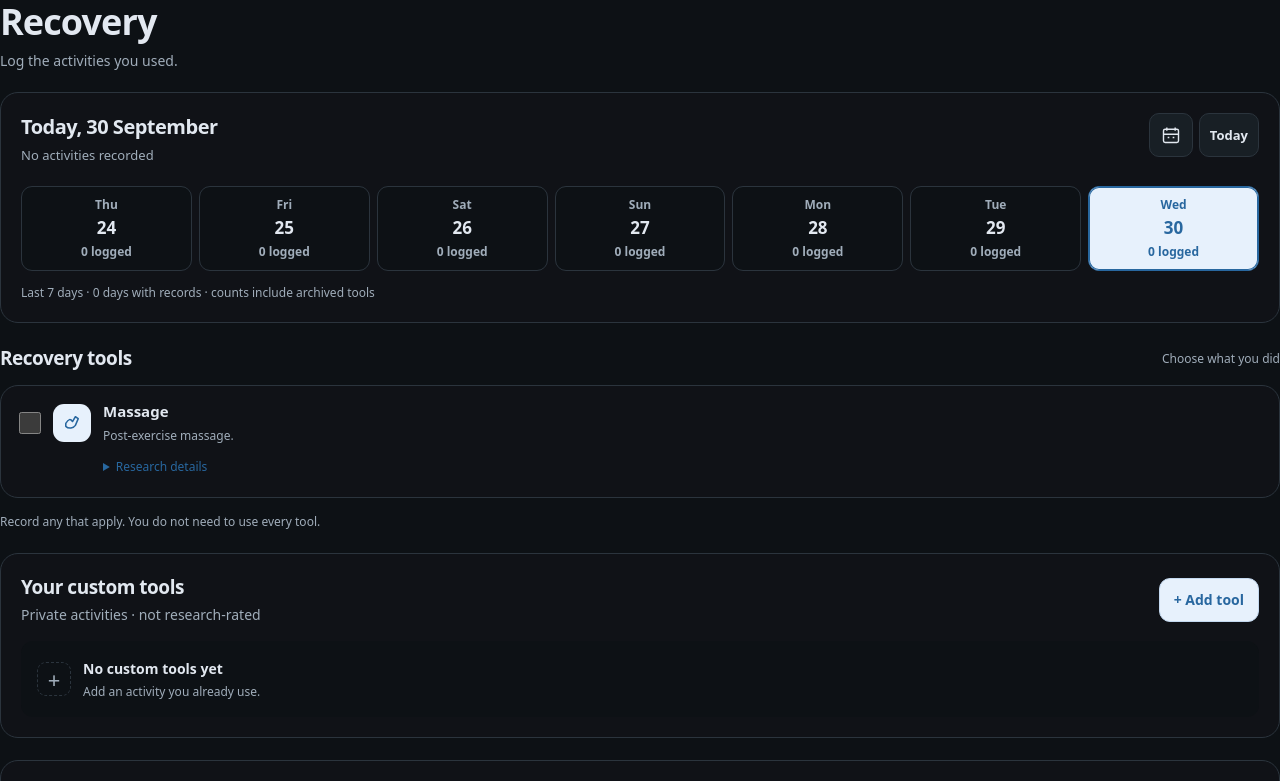
Test: Recovery › preserves the name when custom creation is refused
The width and height of the screenshot is (1280, 781).
Step 1. Click the button with aria-label "Add custom tool" → (1209, 600), box [1159, 578, 1259, 622]
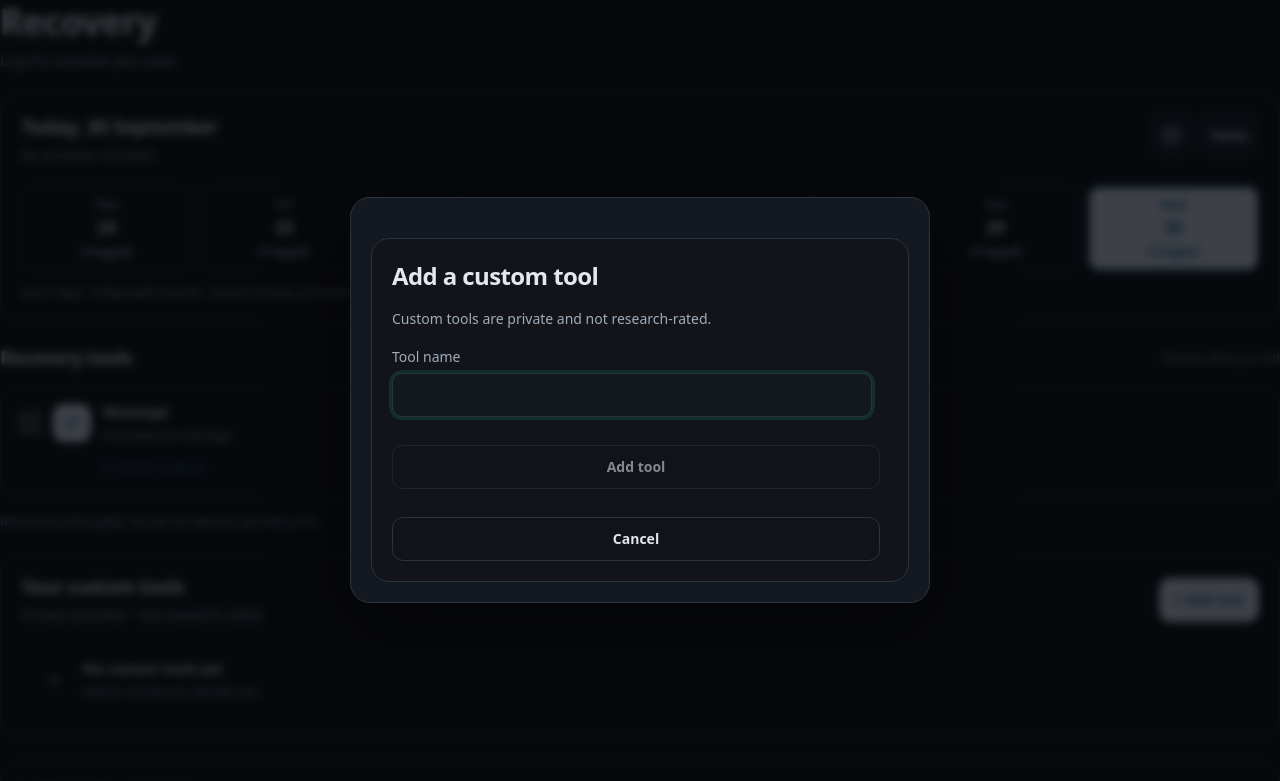
Step 2. Type "Sauna" into the field labelled "Tool name" → (632, 395), box [392, 373, 872, 417]
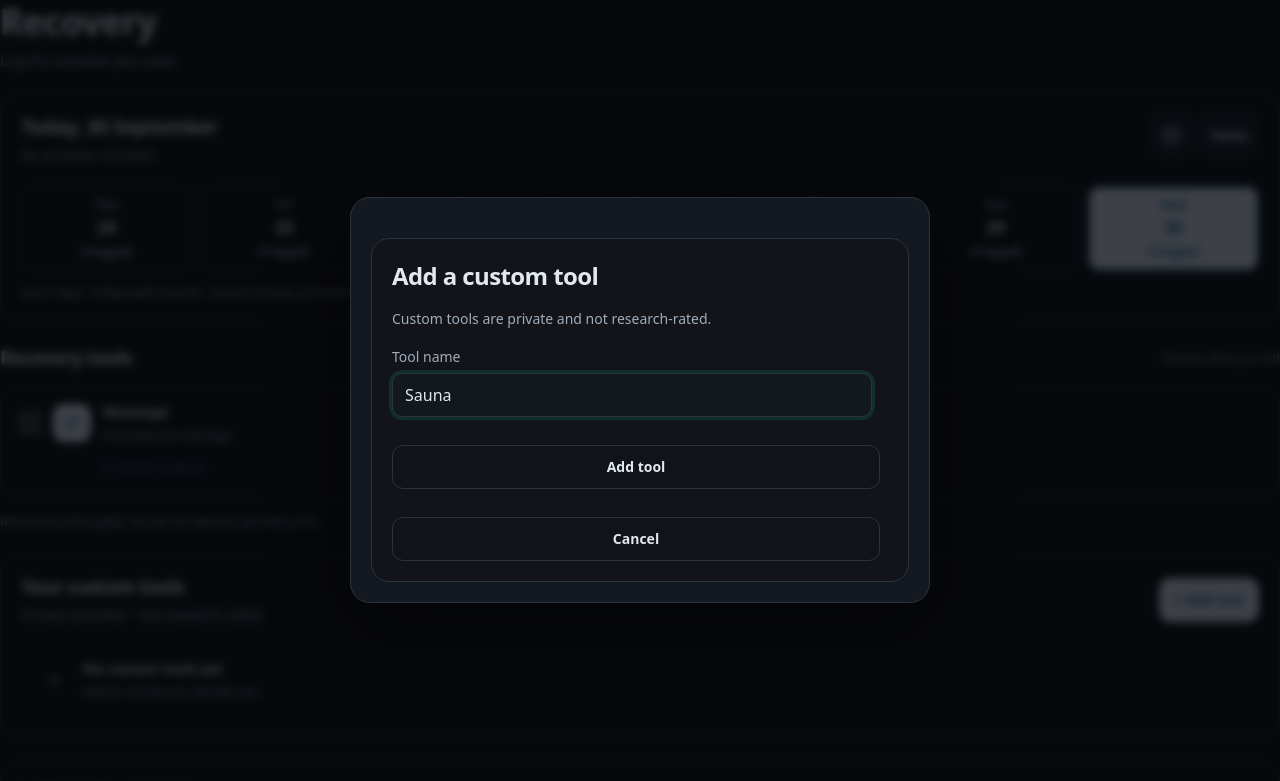
Step 3. Click the button "Add tool" → (636, 467), box [392, 445, 880, 489]
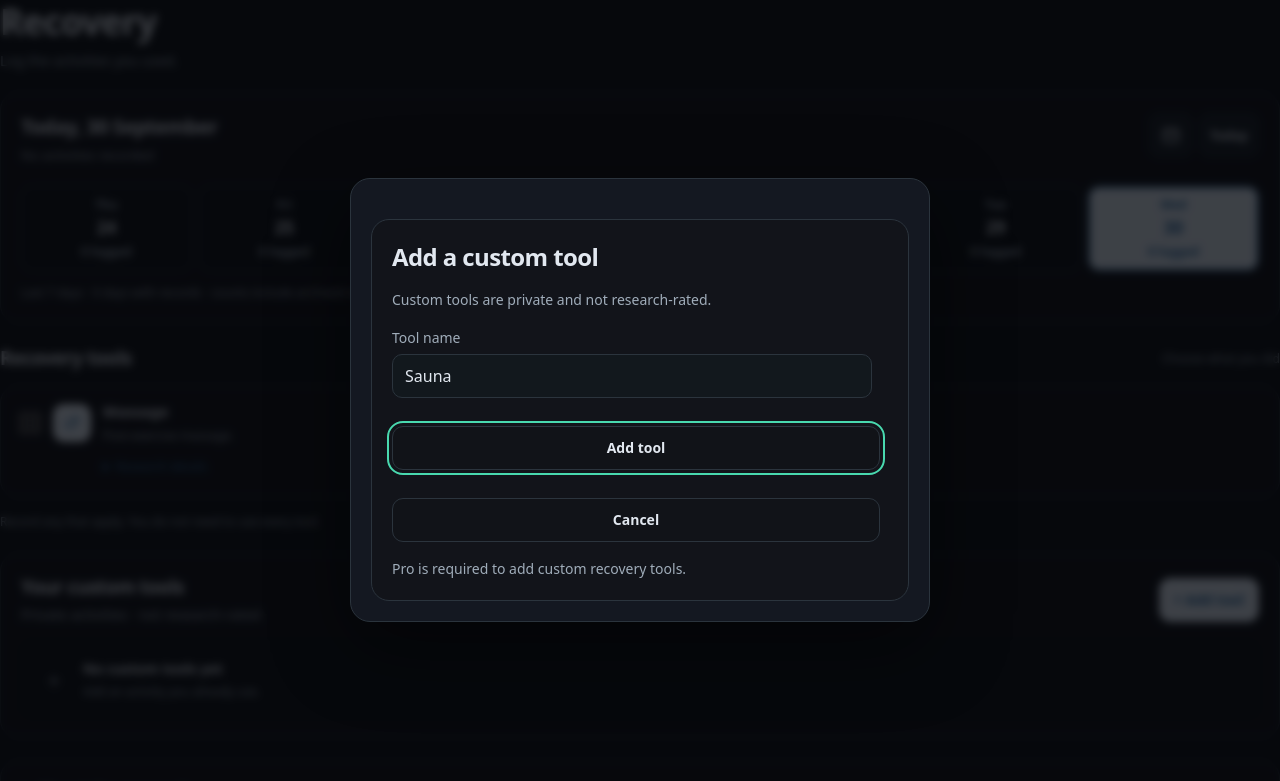
Check: the message shows "Pro is required", box [392, 559, 686, 578]
